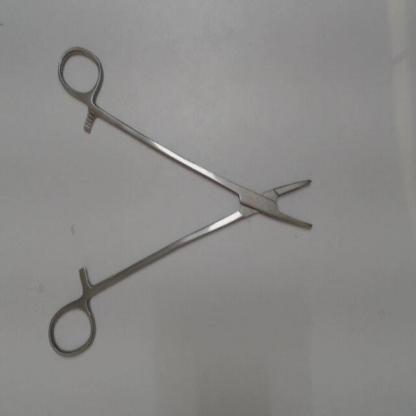8 Mayo Needle Holder: (42, 38, 330, 368)
